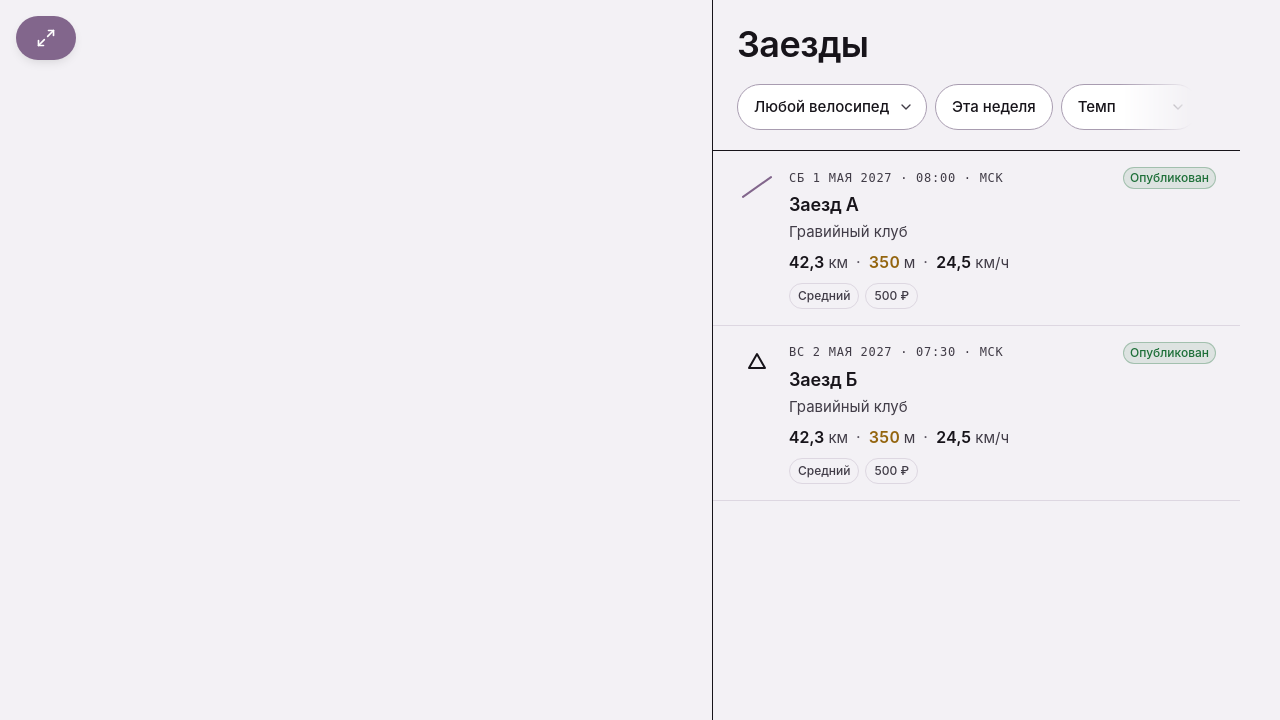
Test: DiscoveryMap basemap failure (CR-185) › says the map is unavailable over the map area and retries in place, keeping the filters
The image size is (1280, 720).
Select "Шоссейный" in the 1st dropdown named "Тип велосипеда" at (832, 107), box [738, 85, 926, 129]
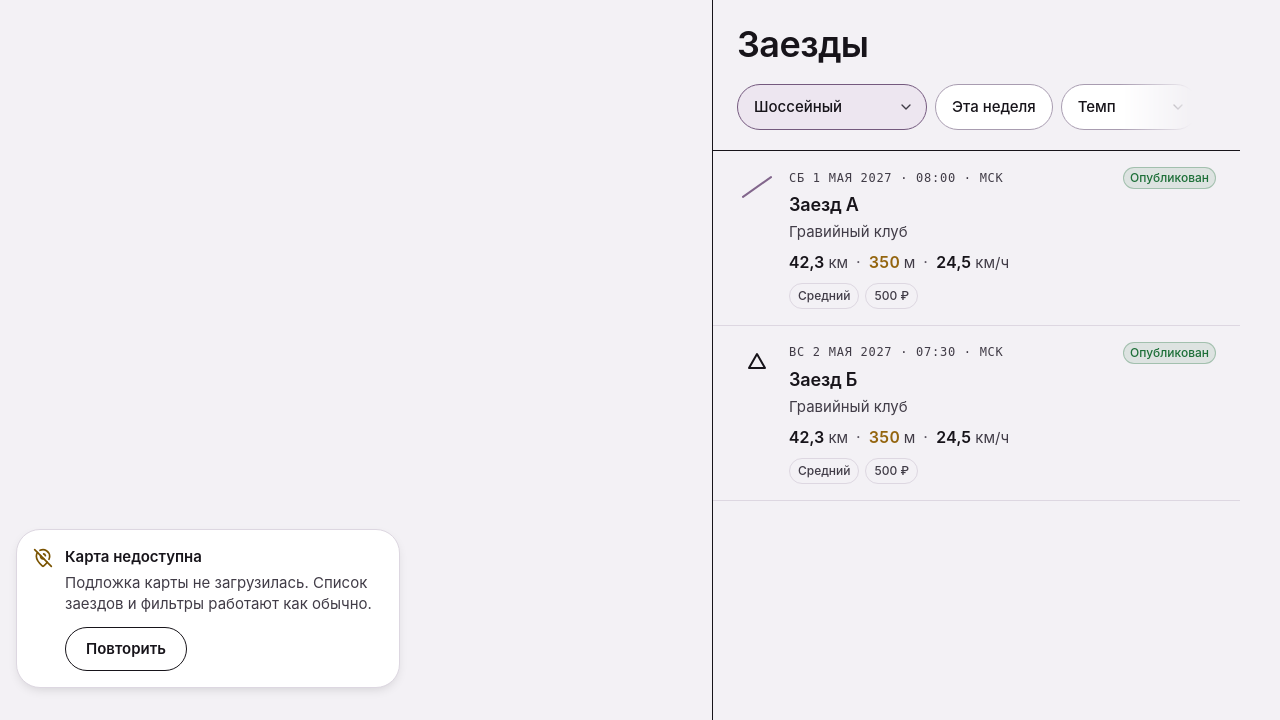
Expected: the link "Заезд А" is shown, [789, 194, 859, 215]
Now the text "Карта недоступна" is shown, box [65, 547, 202, 566]
Click the button "Повторить".
click(126, 649)  # box [65, 627, 187, 671]
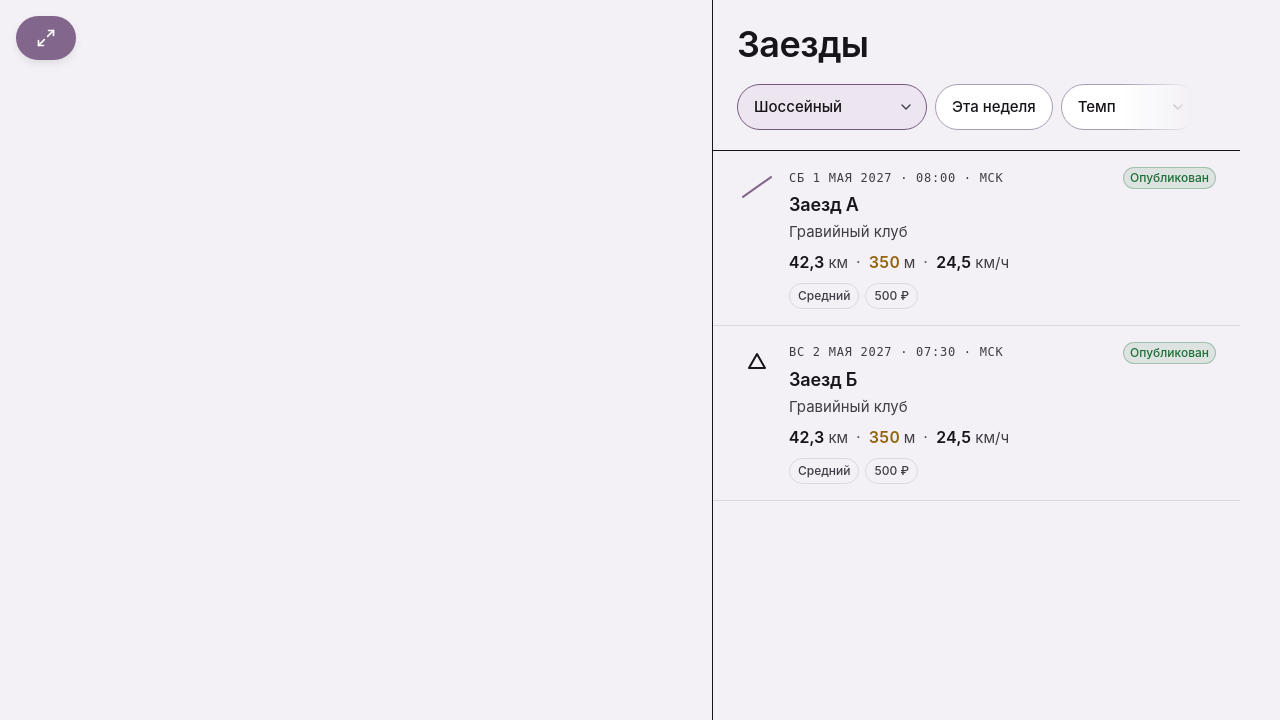
Now the text "Карта недоступна" is gone
